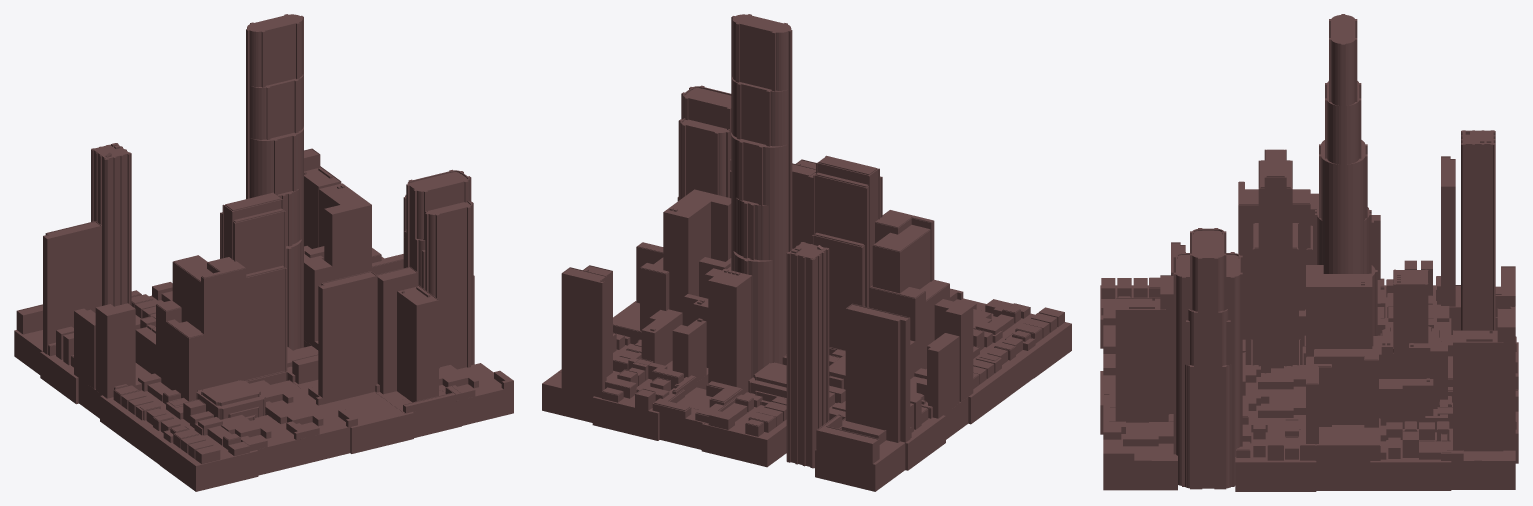
3 renders of one model, left to right at view 1: azimuth 30°, elevation 25°; view 2: azimuth 150°, elevation 25°; view 3: azimuth 270°, elevation 25°, orthographic. The views are drawn at different scales.
Visible parts, largest first — view 1: Mograph_City_Rig.1; view 2: Mograph_City_Rig.1; view 3: Mograph_City_Rig.1.
Part boxes in pixels (x1,y1,x2,y2): Mograph_City_Rig.1: (14, 14, 513, 491); Mograph_City_Rig.1: (542, 14, 1071, 491); Mograph_City_Rig.1: (1100, 14, 1518, 491).
Size of the model in its own units: 3100 by 3177 by 3100.
